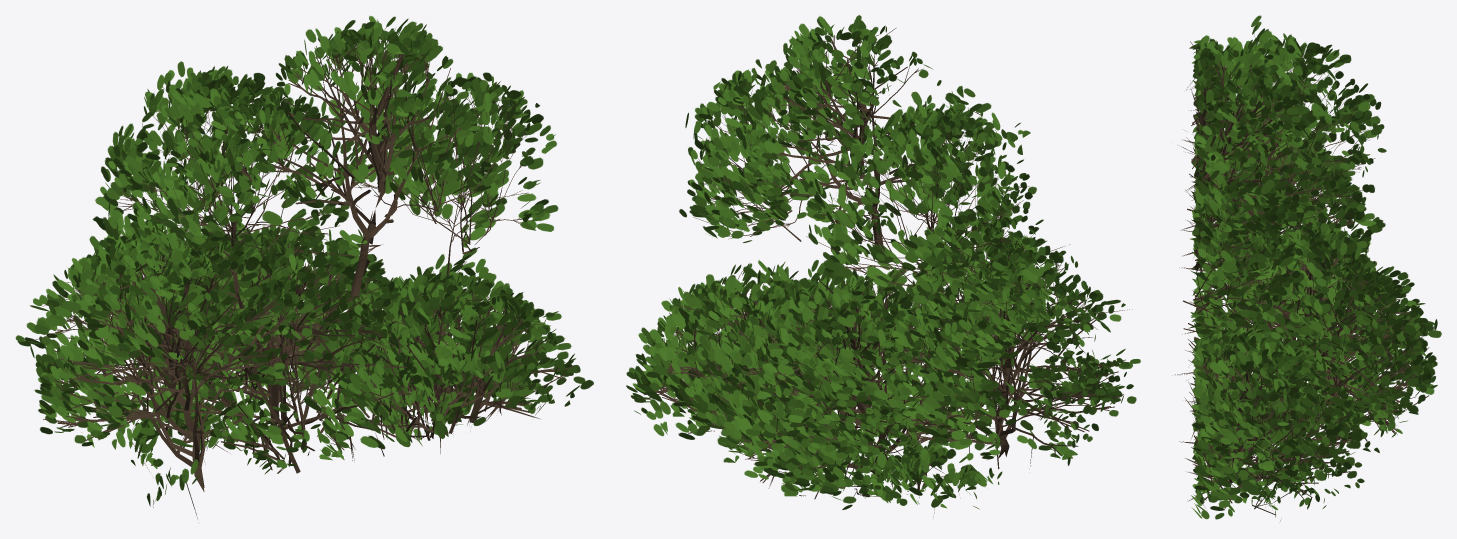
3 renders of one model, left to right at view 1: azimuth 30°, elevation 25°; view 2: azimuth 150°, elevation 25°; view 3: azimuth 270°, elevation 25°, orthographic. The views are drawn at different scales.
Parts seen in each view (by area): view 1: oak 01.001_trunk_Mat.001_0.216; view 2: oak 01.001_trunk_Mat.001_0.216; view 3: oak 01.001_trunk_Mat.001_0.216.
Boxes of the visible parts, x1=… form: oak 01.001_trunk_Mat.001_0.216: x1=15, y1=16, x2=593, y2=518; oak 01.001_trunk_Mat.001_0.216: x1=626, y1=15, x2=1140, y2=517; oak 01.001_trunk_Mat.001_0.216: x1=1172, y1=15, x2=1441, y2=521.
Size of the model in its own units: 3.96 by 3.24 by 1.93.
Materials: 2 (1 with a texture image).
